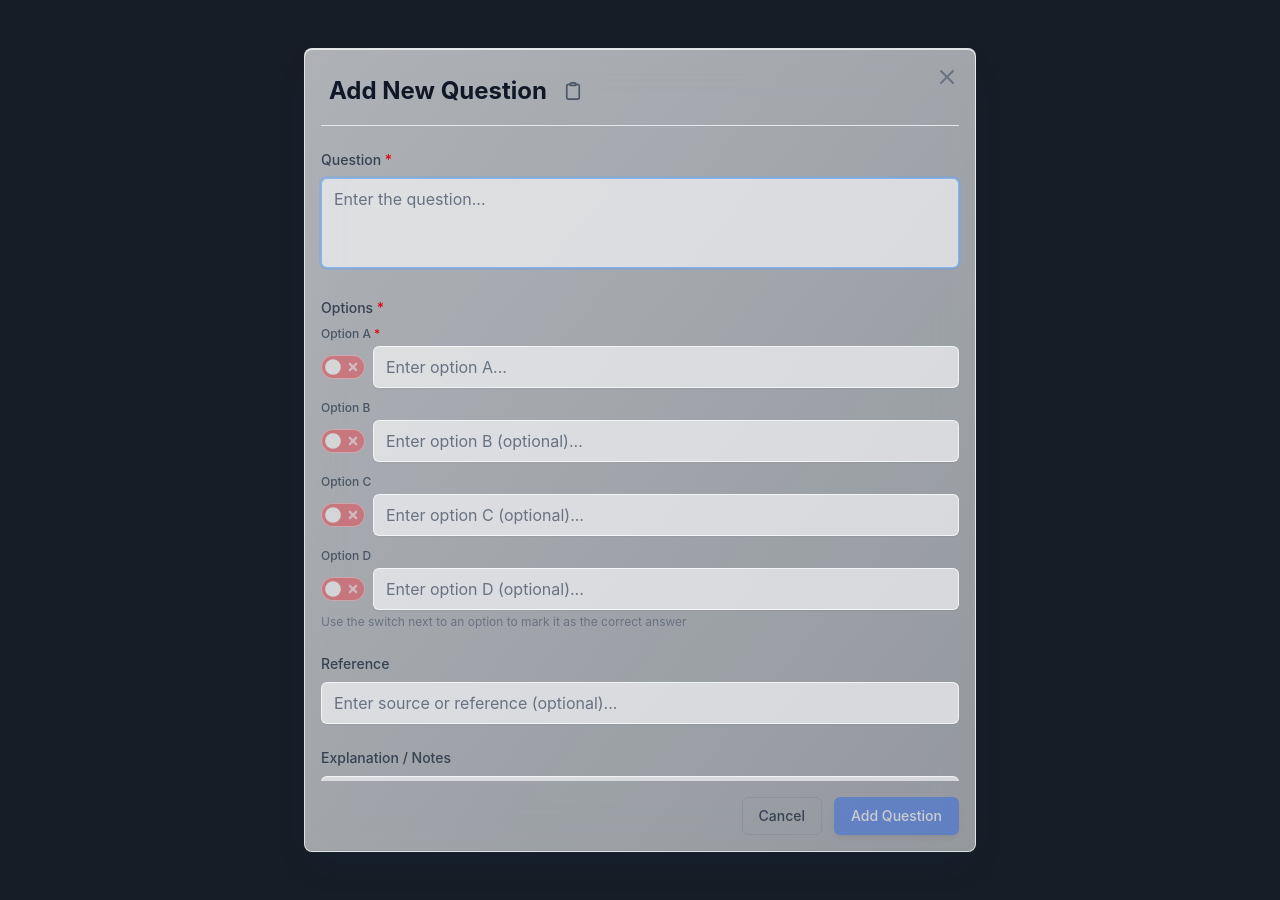
Scenario: QuestionFormModal › keeps submit disabled until an option is marked as the correct answer
The width and height of the screenshot is (1280, 900).
Type "New question?" into the text box labelled "Question *" at (640, 223), box [321,178,959,268]
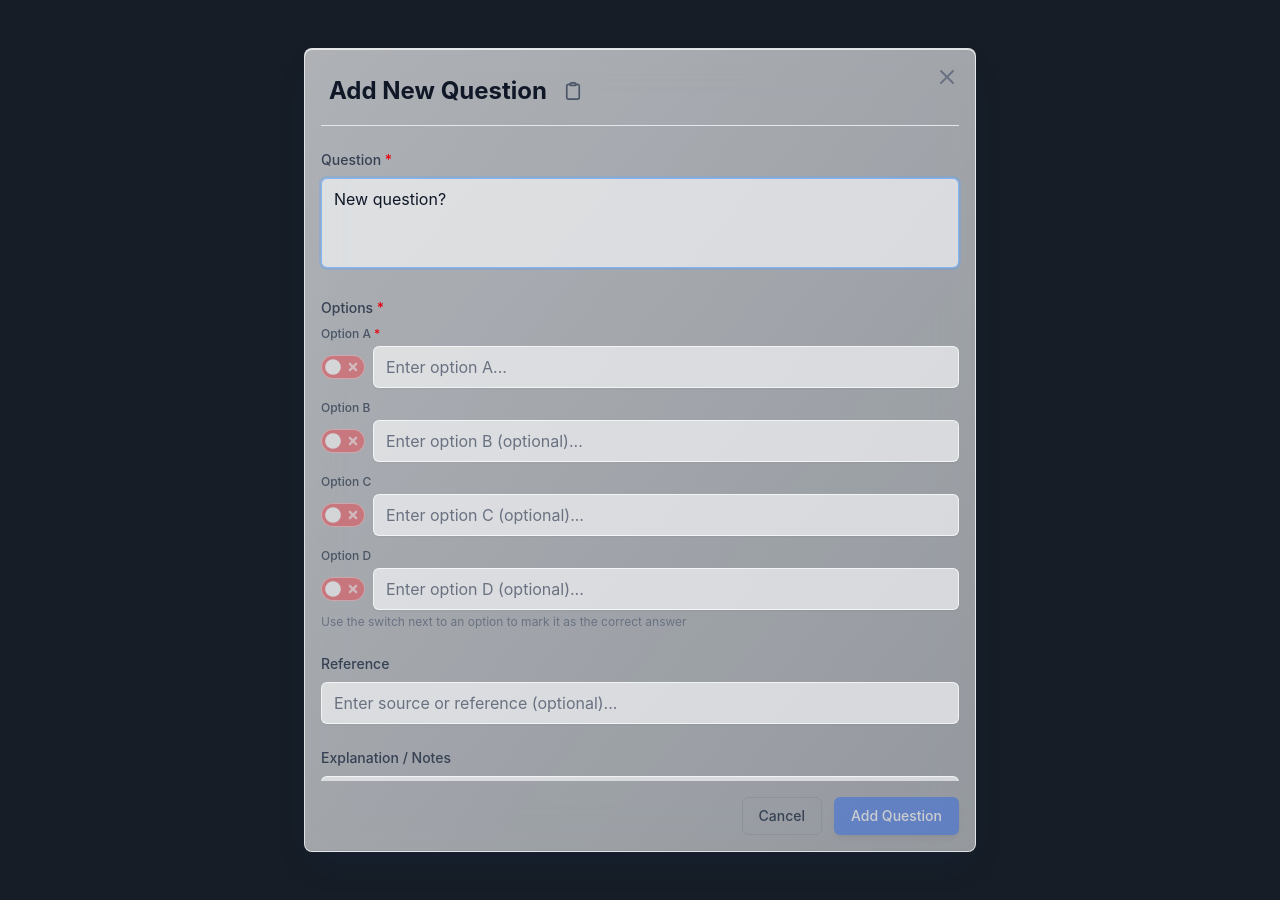
Type "4" into the field labelled "Option A *" at (666, 367), box [373,346,959,388]
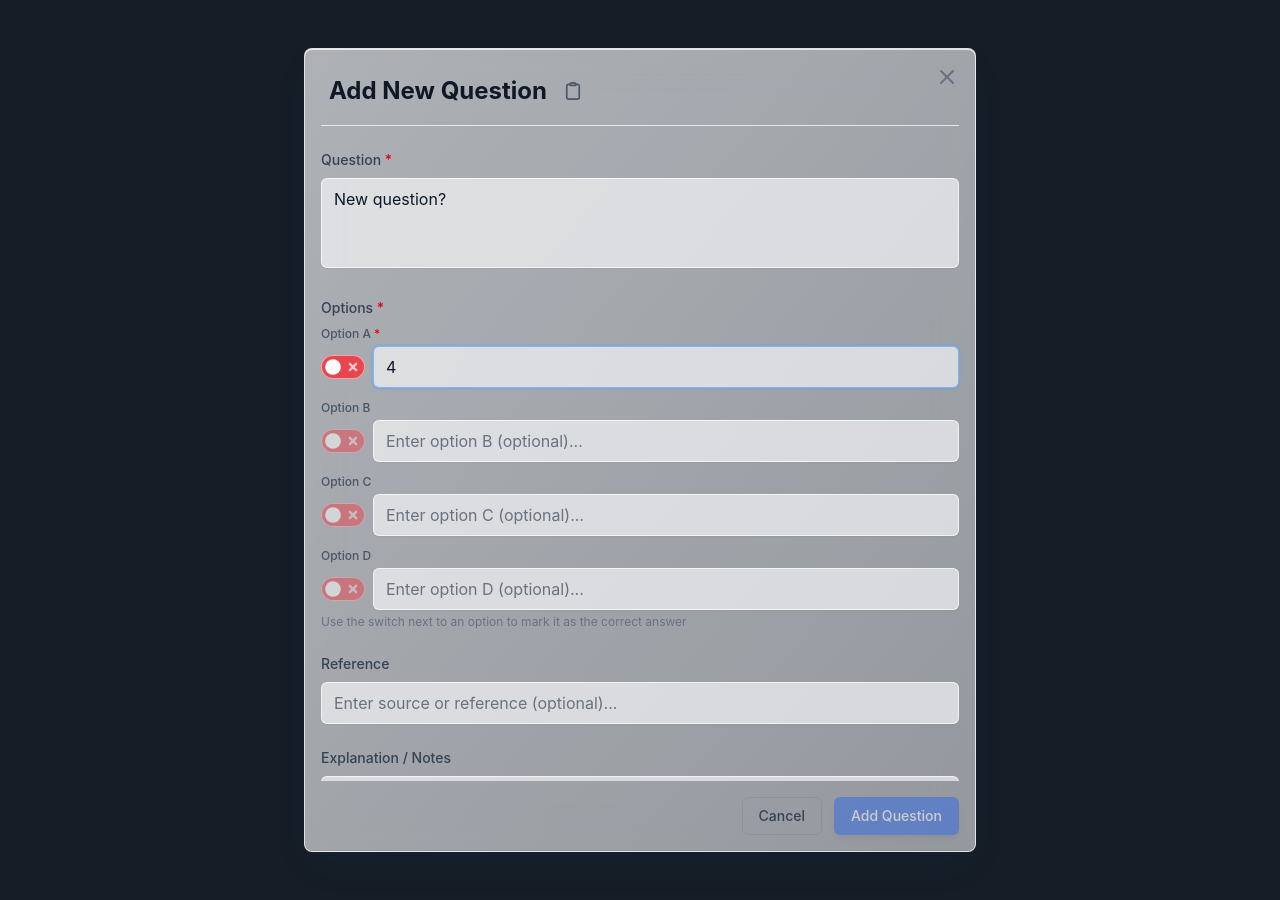
Expected: the button "Add Question" is disabled, [834,797,959,835]
Click the radio button named "Mark option A as the correct answer" at (343, 367), box [321,355,365,379]
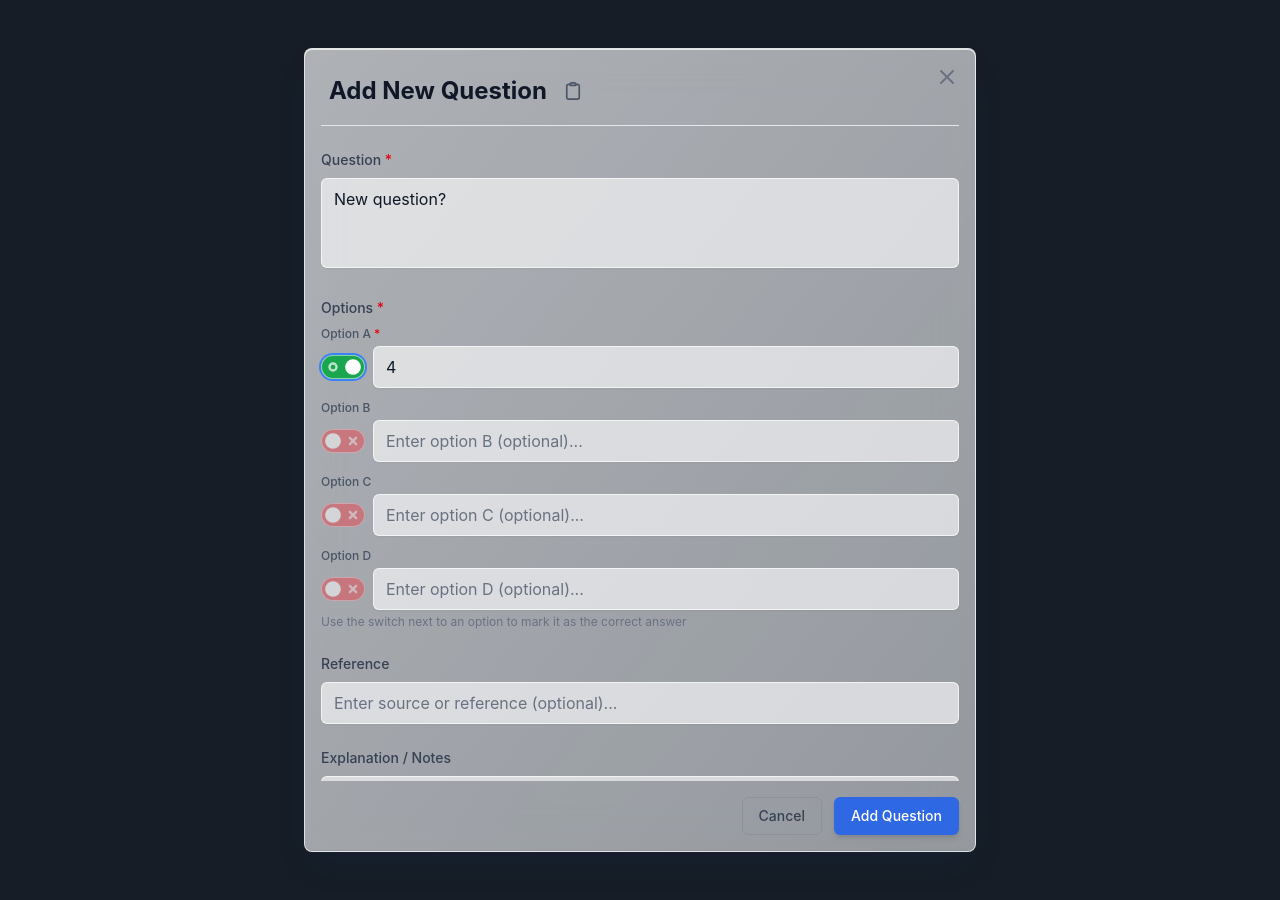
Result: the button "Add Question" is enabled at [834,797,959,835]
